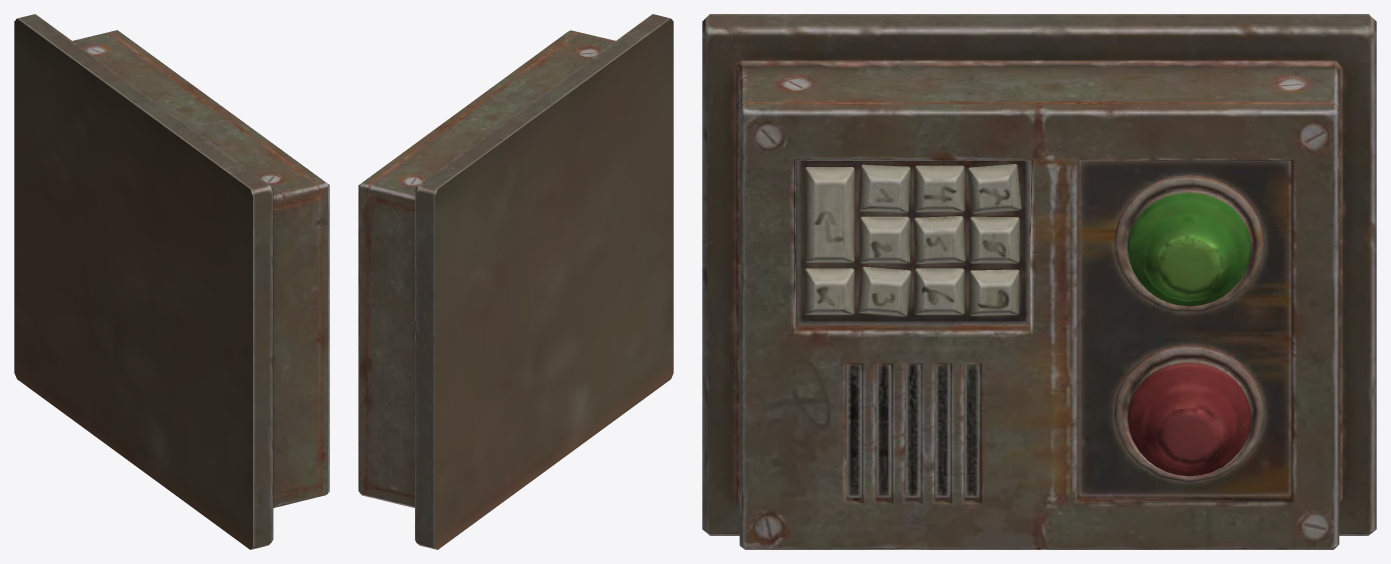
Rendered from keypad.glb.
3 views of the same model, side by side, from view 1: azimuth 30°, elevation 25°; view 2: azimuth 150°, elevation 25°; view 3: azimuth 270°, elevation 25° (orthographic). The views are drawn at different scales.
Parts seen in each view (by area): view 1: keypad_LOD0; view 2: keypad_LOD0; view 3: keypad_LOD0.
Boxes of the visible parts, box(x1,y1,x2,y2) form: keypad_LOD0: box(14, 14, 329, 549); keypad_LOD0: box(358, 14, 673, 549); keypad_LOD0: box(702, 14, 1376, 549).
Size of the model in its own units: 0.0132 by 0.0369 by 0.0442.
1 material, 1 textured.
